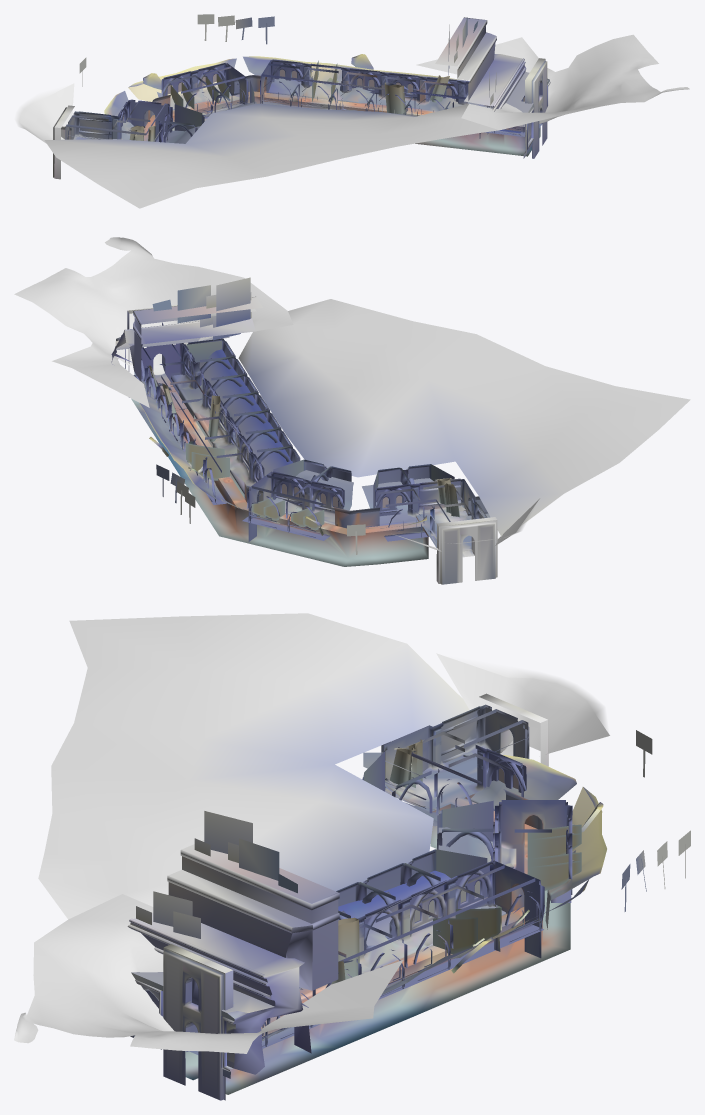
Rendered from 06Interior.gltf.
3 views of the same model, one above another, from view 1: azimuth 30°, elevation 25°; view 2: azimuth 150°, elevation 25°; view 3: azimuth 270°, elevation 25° (orthographic). The views are drawn at different scales.
Visible parts, largest first — view 1: stg010_a07_Mesh_0002, stg010_o07_Mesh_0002, stg010_sand_07_Mesh_0000, stg010_o07_Mesh_0001, stg010_o34_Mesh_0023, stg010_o07_Mesh_0011, stg010_o34_Mesh_0014, stg010_k07_Mesh_0000, stg010_o07_Mesh_0006, stg010_o07_Mesh_0007, stg010_k07_Mesh_0001, stg010_a07_Mesh_0003 (+9 smaller); view 2: stg010_a07_Mesh_0002, stg010_o07_Mesh_0002, stg010_o07_Mesh_0001, stg010_sand_07_Mesh_0000, stg010_o07_Mesh_0011, stg010_o34_Mesh_0023, stg010_p34_Mesh_0000, stg010_a07_Mesh_0003, stg010_k07_Mesh_0001, stg010_o07_Mesh_0007, stg010_o34_Mesh_0014, stg010_o07_Mesh_0006 (+9 smaller); view 3: stg010_a07_Mesh_0002, stg010_o07_Mesh_0001, stg010_o07_Mesh_0002, stg010_o34_Mesh_0014, stg010_sand_07_Mesh_0000, stg010_o07_Mesh_0011, stg010_o34_Mesh_0023, stg010_o34_Mesh_0004, stg010_p34_Mesh_0000, stg010_k07_Mesh_0001, stg010_o07_Mesh_0007, stg010_a07_Mesh_0003 (+10 smaller).
Part boxes in pixels (x1=…): stg010_a07_Mesh_0002: x1=20, y1=34, x2=689, y2=208; stg010_o07_Mesh_0002: x1=65, y1=59, x2=542, y2=151; stg010_sand_07_Mesh_0000: x1=104, y1=56, x2=520, y2=143; stg010_o07_Mesh_0001: x1=53, y1=17, x2=550, y2=177; stg010_o34_Mesh_0023: x1=435, y1=18, x2=522, y2=106; stg010_o07_Mesh_0011: x1=79, y1=54, x2=524, y2=134; stg010_o34_Mesh_0014: x1=54, y1=26, x2=545, y2=179; stg010_k07_Mesh_0000: x1=129, y1=75, x2=449, y2=141; stg010_o07_Mesh_0006: x1=68, y1=67, x2=542, y2=141; stg010_o07_Mesh_0007: x1=66, y1=66, x2=546, y2=156; stg010_k07_Mesh_0001: x1=170, y1=60, x2=337, y2=109; stg010_a07_Mesh_0003: x1=75, y1=89, x2=524, y2=141; stg010_a07_Mesh_0002: x1=14, y1=237, x2=690, y2=551; stg010_o07_Mesh_0002: x1=134, y1=338, x2=488, y2=582; stg010_o07_Mesh_0001: x1=115, y1=296, x2=497, y2=584; stg010_sand_07_Mesh_0000: x1=139, y1=349, x2=433, y2=534; stg010_o07_Mesh_0011: x1=146, y1=341, x2=482, y2=518; stg010_o34_Mesh_0023: x1=124, y1=297, x2=262, y2=345; stg010_p34_Mesh_0000: x1=152, y1=277, x2=251, y2=340; stg010_a07_Mesh_0003: x1=141, y1=373, x2=468, y2=549; stg010_k07_Mesh_0001: x1=186, y1=443, x2=324, y2=530; stg010_o07_Mesh_0007: x1=141, y1=357, x2=492, y2=584; stg010_o34_Mesh_0014: x1=127, y1=305, x2=496, y2=583; stg010_o07_Mesh_0006: x1=152, y1=351, x2=488, y2=557; stg010_a07_Mesh_0002: x1=14, y1=613, x2=609, y2=1053; stg010_o07_Mesh_0001: x1=127, y1=720, x2=570, y2=1100; stg010_o07_Mesh_0002: x1=183, y1=704, x2=574, y2=1092; stg010_o34_Mesh_0014: x1=141, y1=693, x2=564, y2=1020; stg010_sand_07_Mesh_0000: x1=233, y1=755, x2=606, y2=1039; stg010_o07_Mesh_0011: x1=338, y1=721, x2=599, y2=967; stg010_o34_Mesh_0023: x1=133, y1=840, x2=337, y2=975; stg010_o34_Mesh_0004: x1=227, y1=735, x2=603, y2=1074; stg010_p34_Mesh_0000: x1=136, y1=811, x2=297, y2=938; stg010_k07_Mesh_0001: x1=433, y1=824, x2=581, y2=953; stg010_o07_Mesh_0007: x1=167, y1=727, x2=564, y2=1098; stg010_a07_Mesh_0003: x1=262, y1=744, x2=514, y2=1040.
Size of the model in its own units: 279 by 62.66 by 181.
